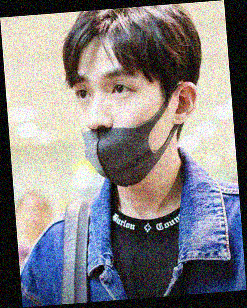mask_weared_incorrect: (74, 66, 163, 188)
